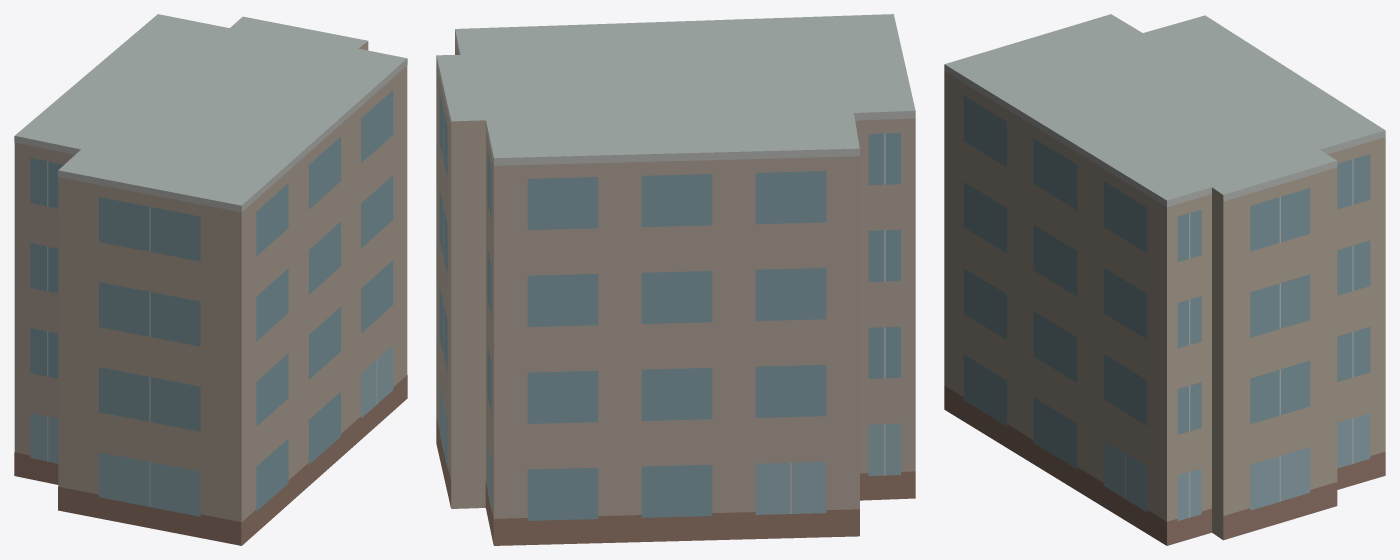
File: survey-upis-32776649.glb
3 renders of one model, left to right at view 1: azimuth 30°, elevation 25°; view 2: azimuth 150°, elevation 25°; view 3: azimuth 270°, elevation 25°, orthographic. The views are drawn at different scales.
Parts seen in each view (by area): view 1: survey-upis-32776649.tmp; view 2: survey-upis-32776649.tmp; view 3: survey-upis-32776649.tmp.
Part boxes in pixels (x1,y1,x2,y2): survey-upis-32776649.tmp: [14, 14, 407, 545]; survey-upis-32776649.tmp: [436, 14, 915, 545]; survey-upis-32776649.tmp: [944, 14, 1385, 545].
Size of the model in its own units: 14.44 by 12.45 by 14.43.
